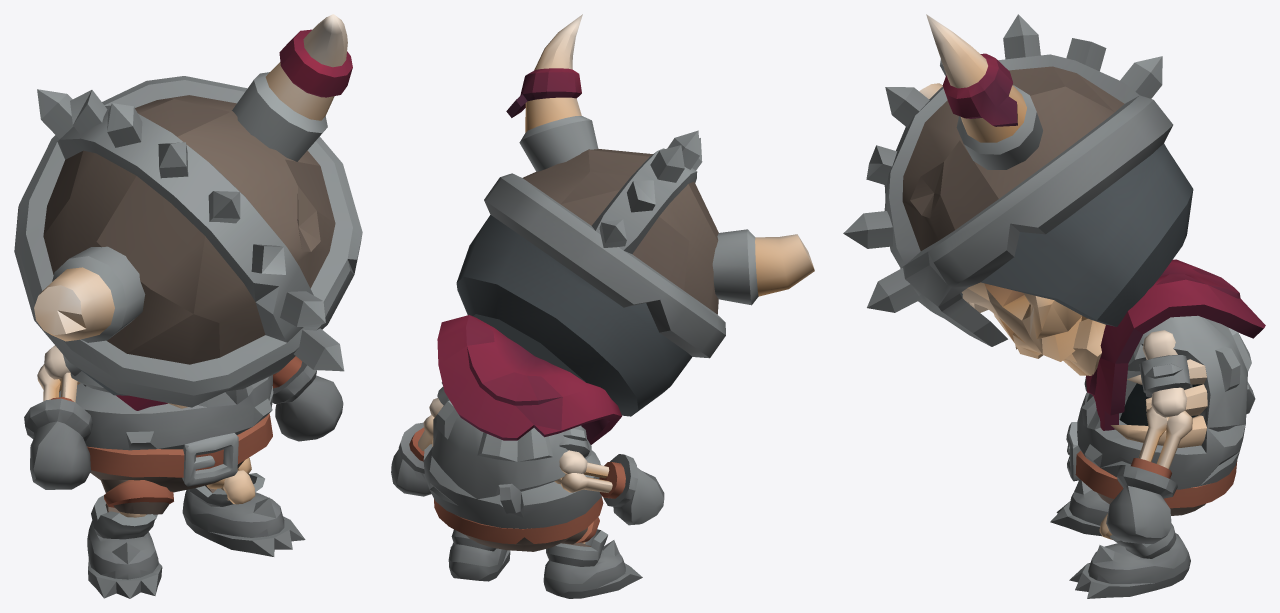
The model's file is skeleton_guard.glb.
The picture shows the model from 3 angles, left to right: view 1: azimuth 30°, elevation 25°; view 2: azimuth 150°, elevation 25°; view 3: azimuth 270°, elevation 25°; orthographic projection. The views are drawn at different scales.
Parts seen in each view (by area): view 1: skeleton_guard; view 2: skeleton_guard; view 3: skeleton_guard.
Part boxes in pixels (left/top/right/bottom): skeleton_guard: left=14, top=14, right=362, bottom=598; skeleton_guard: left=391, top=14, right=814, bottom=598; skeleton_guard: left=843, top=14, right=1265, bottom=598.
Size of the model in its own units: 1.67 by 2.34 by 1.6.
Materials: 1 (1 with a texture image).
